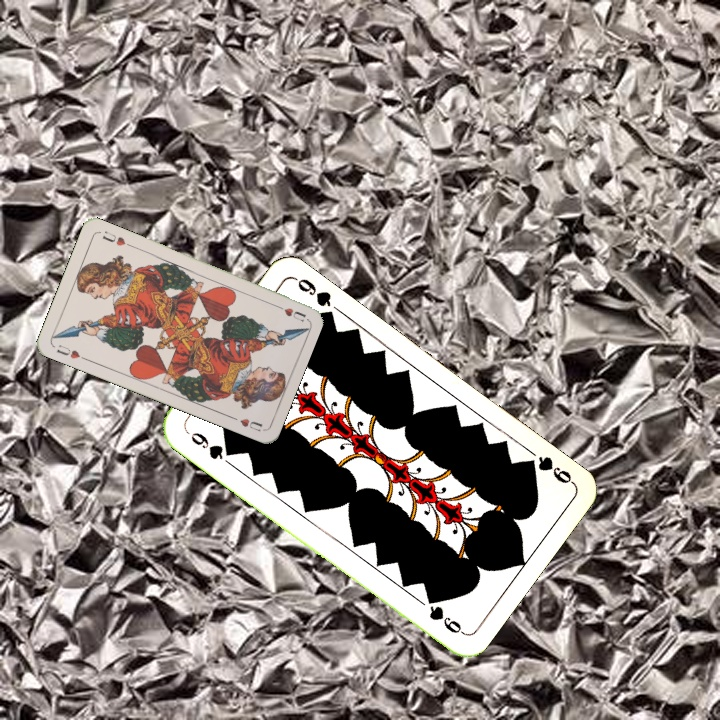G9: (518, 452, 576, 486), (186, 427, 236, 462)
HU: (270, 300, 308, 324), (52, 340, 89, 363)
